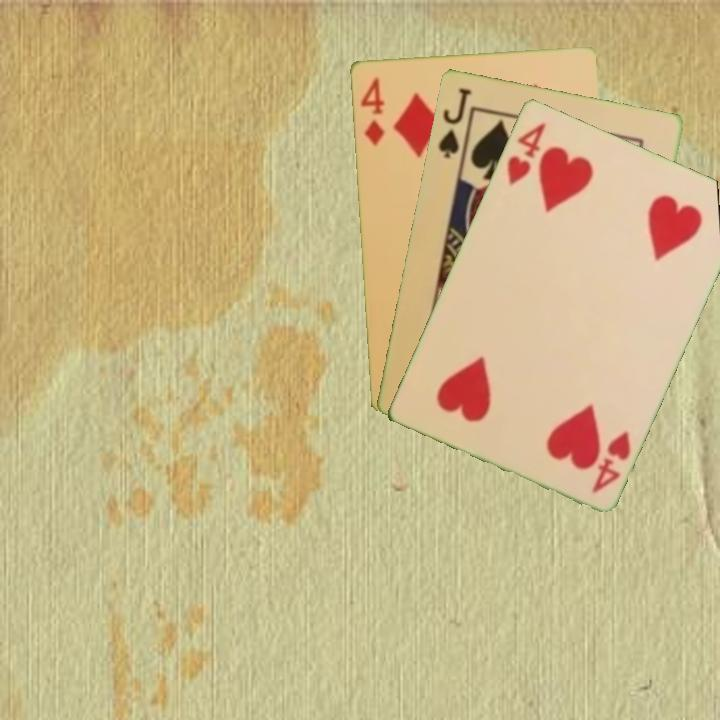4d: (357, 74, 387, 149)
4h: (503, 118, 549, 187), (588, 427, 633, 496)
Js: (434, 84, 474, 161)
